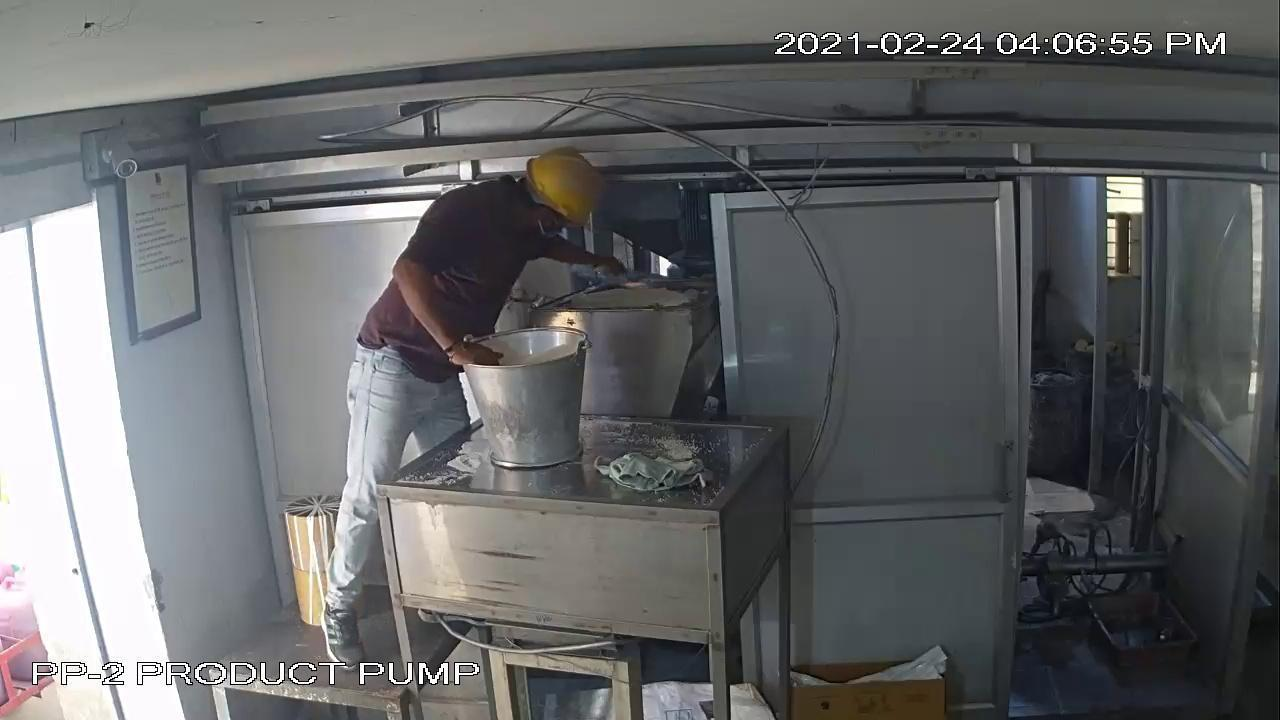helmet: (507, 143, 616, 231)
